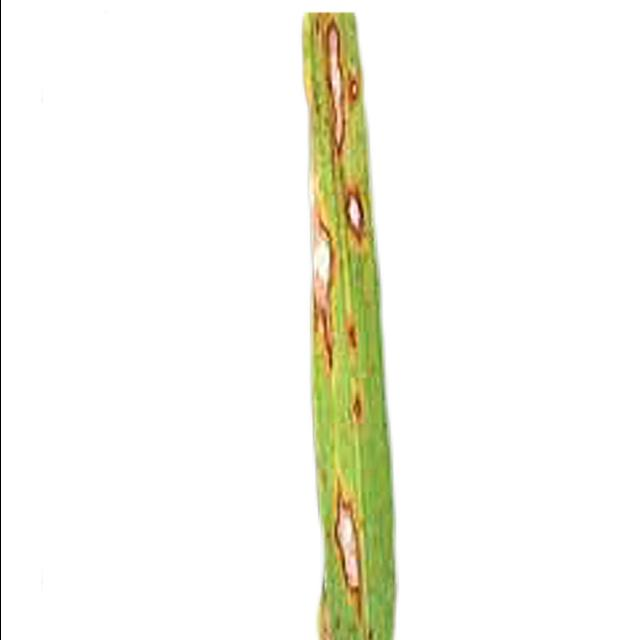Leaf blast: (224, 14, 471, 640)
